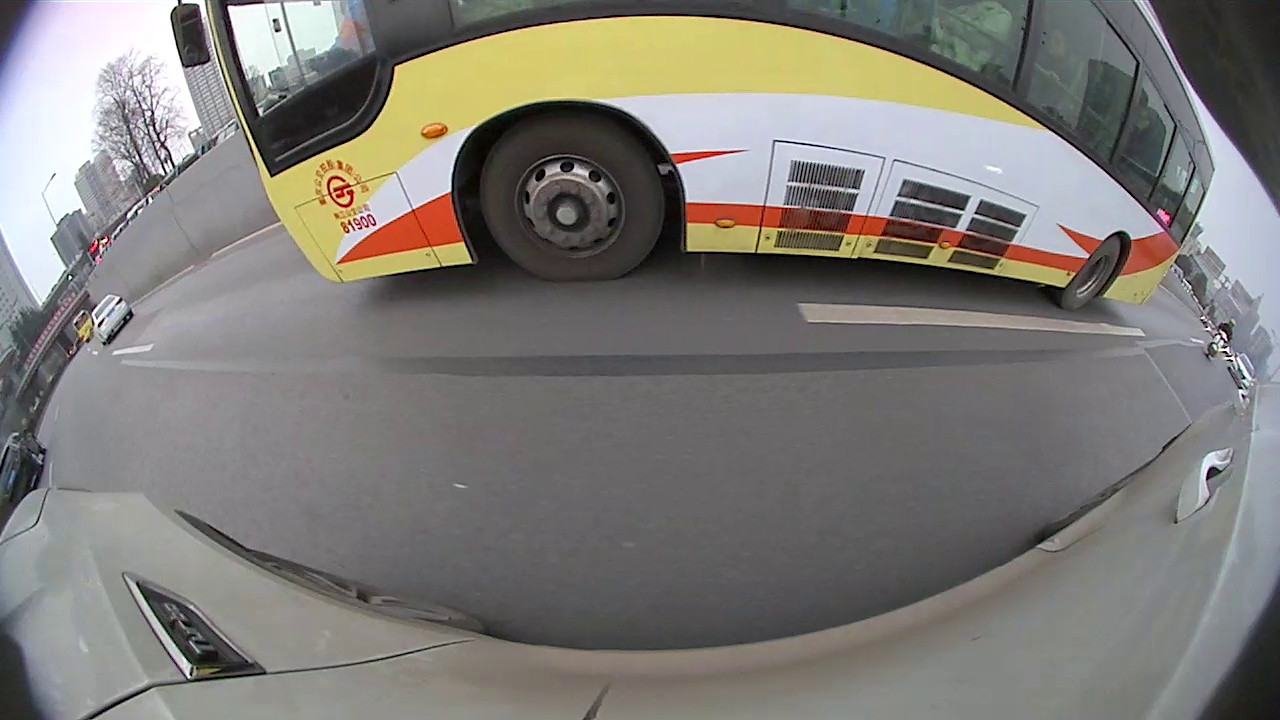bus: (167, 1, 1219, 310)
car: (1, 429, 48, 508), (89, 291, 135, 345)
front: (473, 110, 672, 283)
rear: (1052, 235, 1129, 315)
rider: (1204, 317, 1238, 357)
